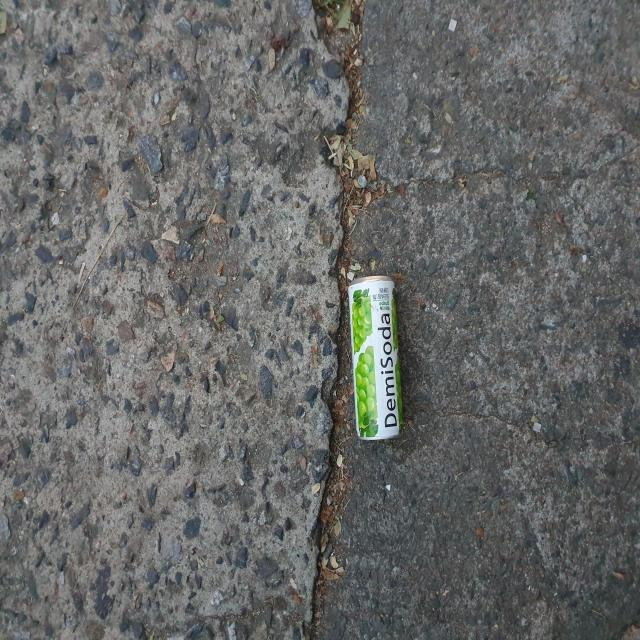can: (349, 276, 403, 439)
